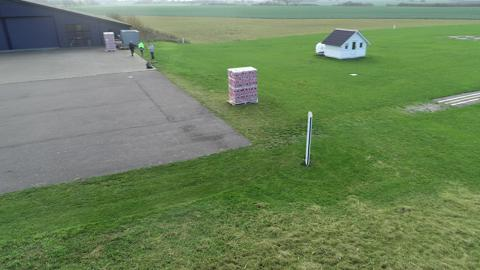RockwoolPallet: (102, 31, 116, 52)
